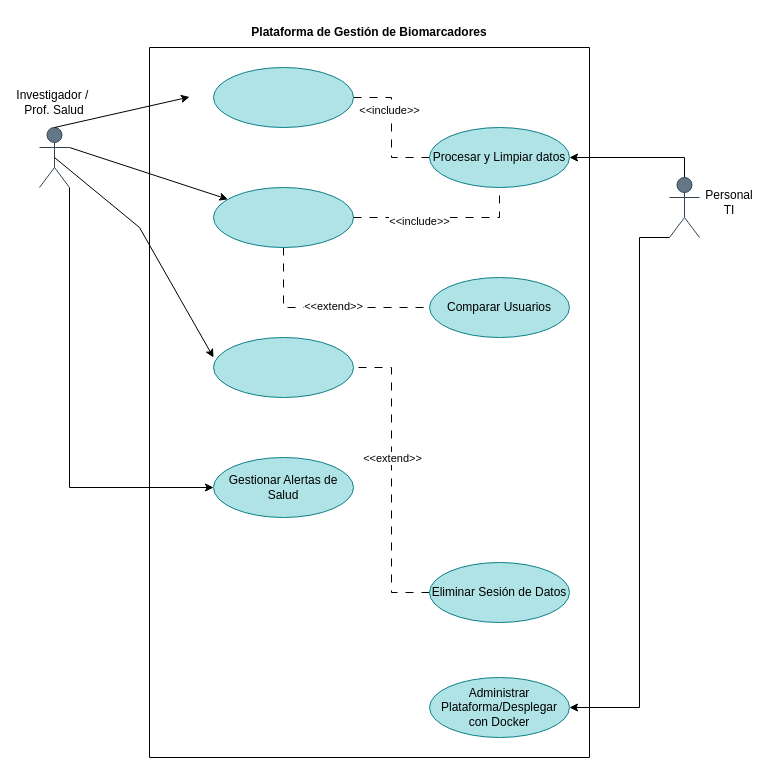
The diagram is 777 pixels wide and 775 high, and some of its shapes have lost their labels. The box of each missing label's shape, as (x1, y1, x2, y2) in pixels:
Consultar Historial: (212, 336, 354, 398)
Importar datos CSV: (212, 66, 354, 128)
Visualizar Dashboard: (212, 186, 354, 248)
